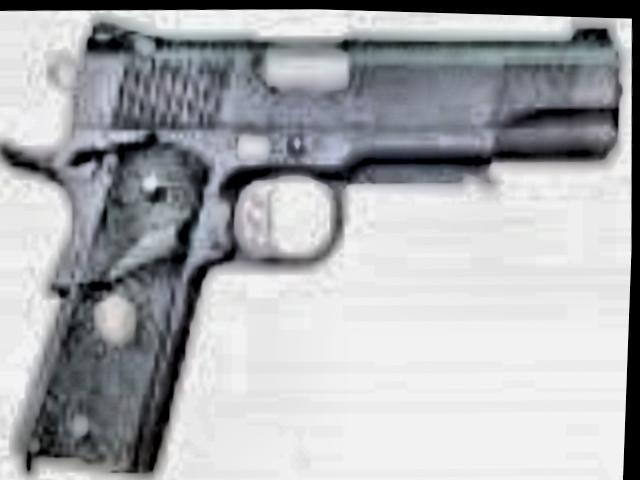pistol: (0, 0, 631, 480)
